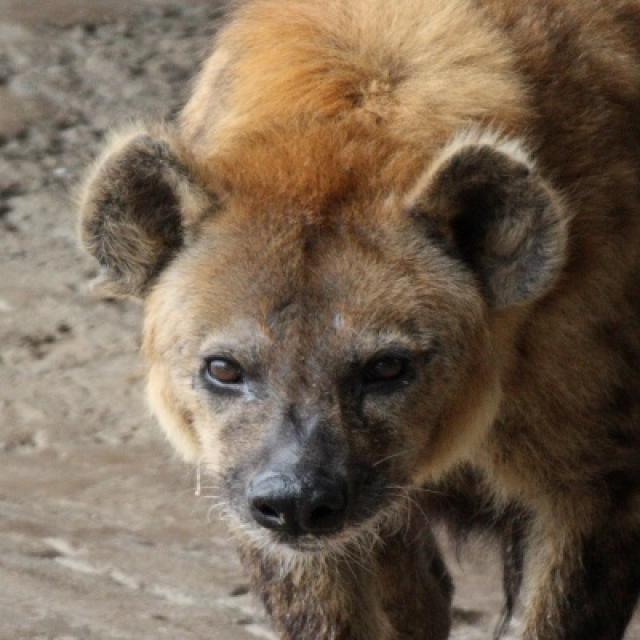hyena: (75, 0, 638, 638)
